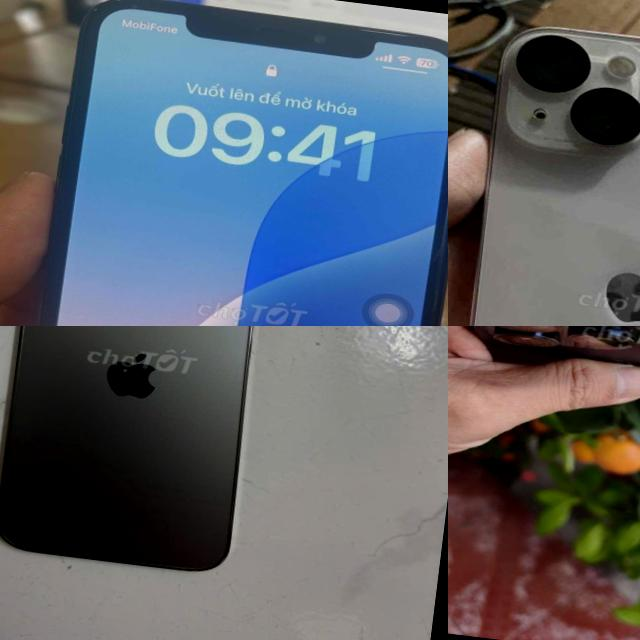gen_12_13: (0, 326, 275, 586), (448, 16, 640, 326)
gen_15: (448, 326, 640, 407)
gen_x_xs: (40, 0, 448, 326)
scratch: (83, 0, 148, 25)
